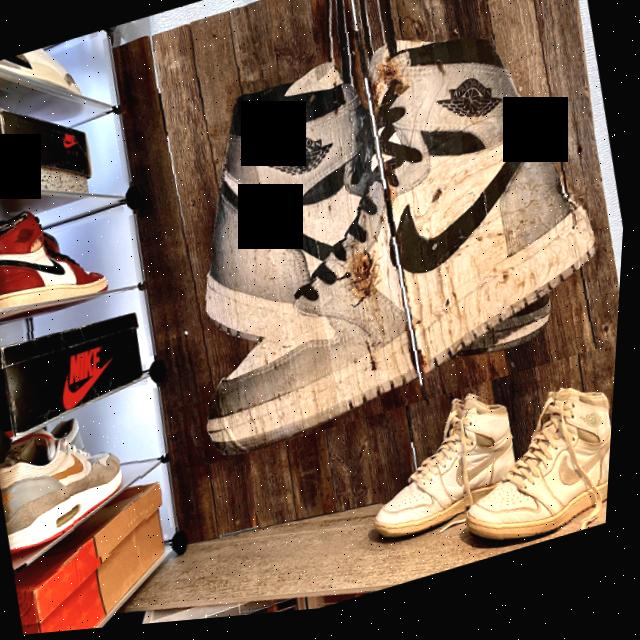shoe: (102, 0, 640, 482), (0, 392, 167, 586), (452, 387, 620, 567), (355, 392, 535, 548), (0, 177, 119, 346)
